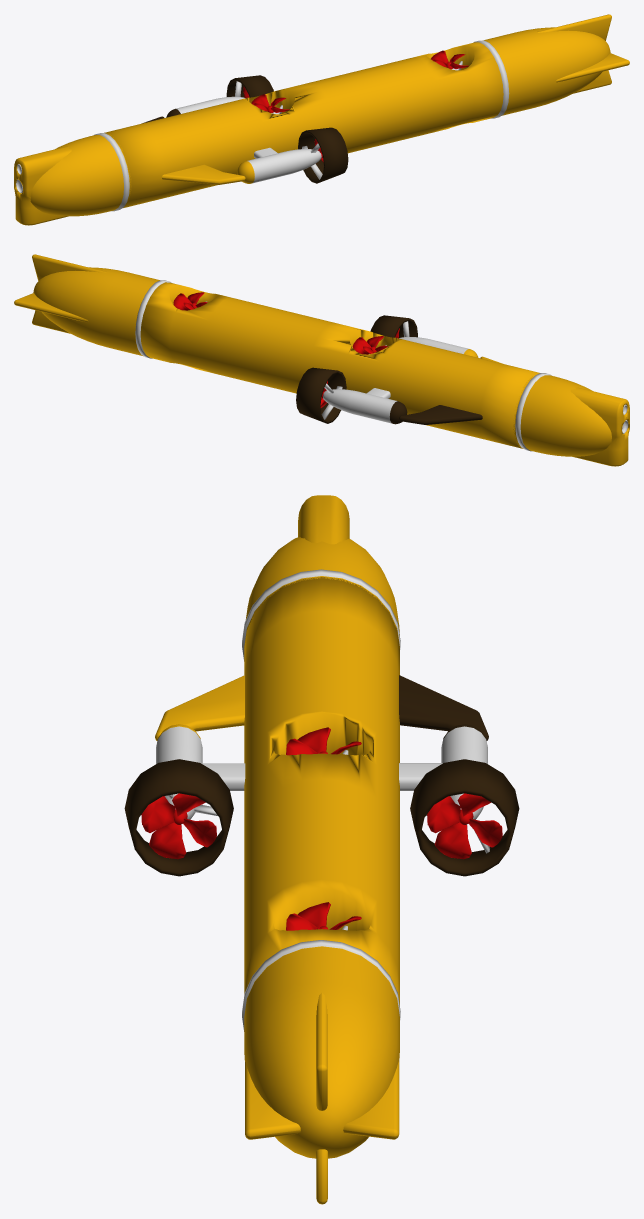
File: Glider+good2.obj
The picture shows the model from 3 angles, top to bottom: view 1: azimuth 30°, elevation 25°; view 2: azimuth 150°, elevation 25°; view 3: azimuth 270°, elevation 25°; orthographic projection. The views are drawn at different scales.
Visible parts, largest first — view 1: Cylinder01, Capsule04, Tube02, Object01, Tube03, Cylinder02, Cylinder03, Capsule05, Cone11, Cone13; view 2: Cylinder01, Capsule05, Tube03, Object02, Tube02, Capsule04, Cylinder03, Cylinder02, Cone11, Cone13; view 3: Cylinder01, Tube02, Tube03, Cone12, Cone09, Object02, Object01, Capsule04, Capsule05, Cylinder02, Cylinder03, Cone13 (+1 smaller).
Boxes of the visible parts, x1,y1,x2,y2 form: Cylinder01: (14,14,629,225); Capsule04: (247,143,322,183); Tube02: (298,127,348,183); Object01: (162,161,254,184); Tube03: (226,75,273,97); Cylinder02: (94,133,129,211); Cylinder03: (473,40,509,118); Capsule05: (176,81,245,113); Cone11: (251,94,289,112); Cone13: (431,50,468,69); Cylinder01: (14,254,629,466); Capsule05: (321,383,397,423); Tube03: (296,367,346,423); Object02: (389,401,482,424); Tube02: (370,315,417,337); Capsule04: (399,321,468,353); Cylinder03: (135,280,171,358); Cylinder02: (515,373,552,451); Cone11: (352,336,387,354); Cone13: (173,292,207,310); Cylinder01: (244,495,399,1204); Tube02: (124,759,233,876); Tube03: (410,759,519,876); Cone12: (427,793,502,859); Cone09: (141,793,216,859); Object02: (399,675,488,740); Object01: (155,675,244,740); Capsule04: (156,726,245,823); Capsule05: (399,726,489,853); Cylinder02: (242,569,400,661); Cylinder03: (242,940,400,1031); Cone13: (286,902,361,930).
Size of the model in its own units: 33.81 by 3.92 by 9.74.
